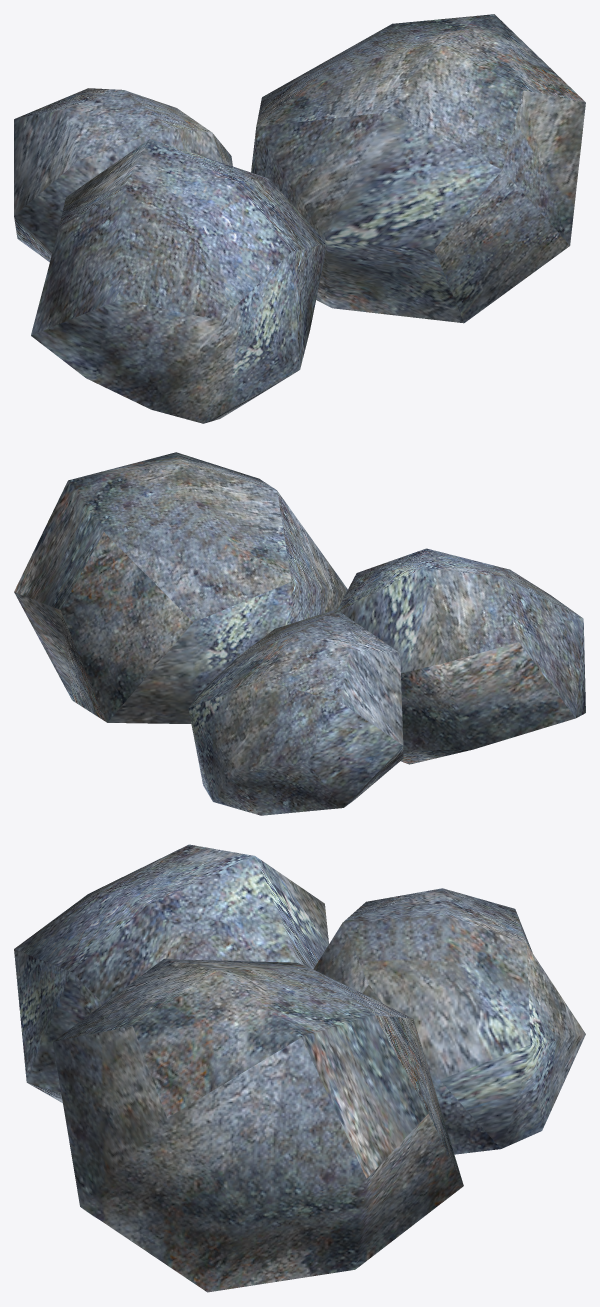
File: Stone_02_v01.obj
3 views of the same model, one above another, from view 1: azimuth 30°, elevation 25°; view 2: azimuth 150°, elevation 25°; view 3: azimuth 270°, elevation 25° (orthographic). The views are drawn at different scales.
Visible parts, largest first — view 1: polySurface1; view 2: polySurface1; view 3: polySurface1.
Boxes of the visible parts, x1,y1,x2,y2 form: polySurface1: (14,14,585,423); polySurface1: (14,452,585,815); polySurface1: (14,844,585,1292).
Size of the model in its own units: 15.74 by 7.29 by 12.35.
Materials: 1 (1 with a texture image).
